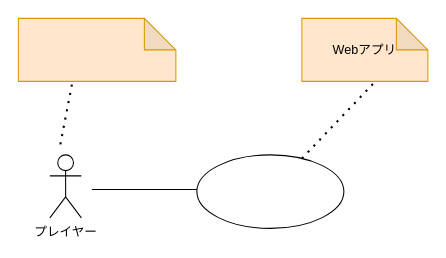
This 446x258 diagram has some shape labels left out. Each missing label, with the centre of its shape:
1人で交互に黒白打つ: the point at 96,49
リバーシ アプリケーション: the point at 270,191
